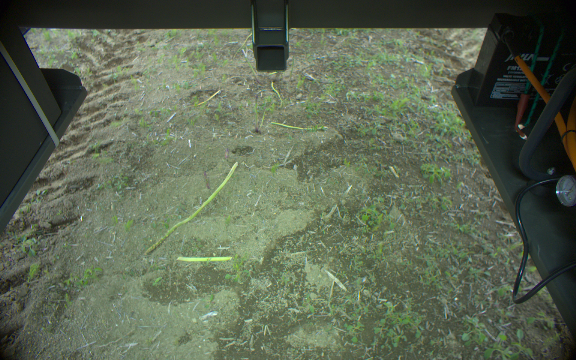aspa: (240, 49, 262, 86)
